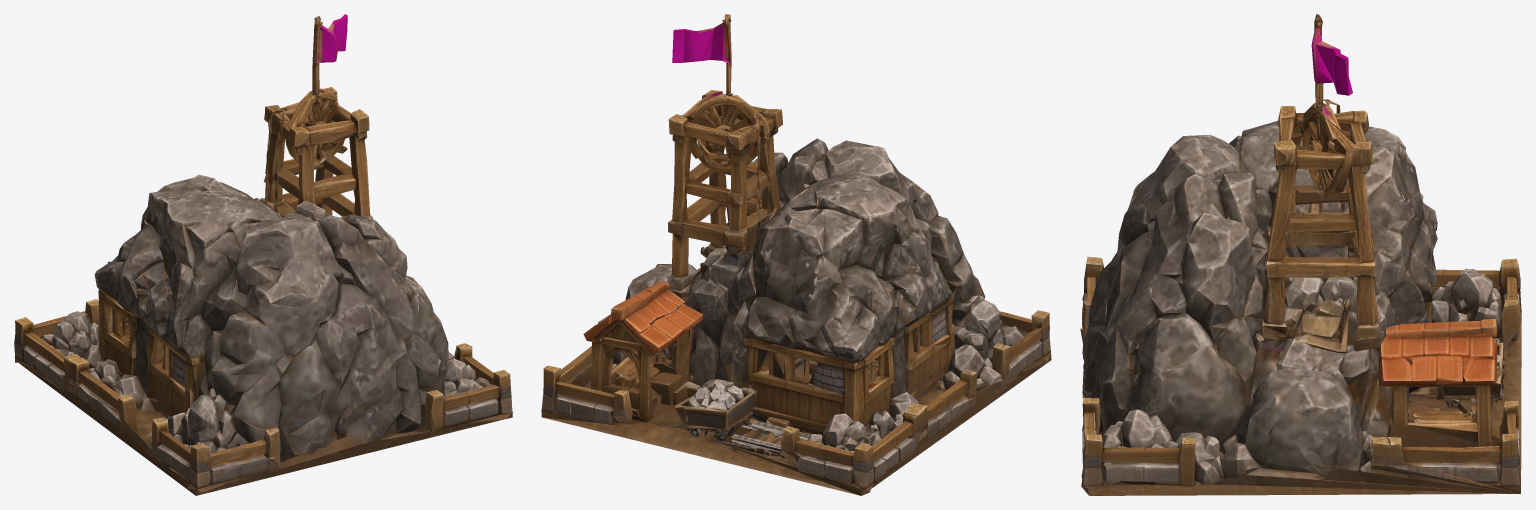
The model's file is stone_mine2.glb.
3 renders of one model, left to right at view 1: azimuth 30°, elevation 25°; view 2: azimuth 150°, elevation 25°; view 3: azimuth 270°, elevation 25°, orthographic. The views are drawn at different scales.
Visible parts, largest first — view 1: Mesh_0; view 2: Mesh_0; view 3: Mesh_0.
Part boxes in pixels (box(x1,y1,x2,y2)): Mesh_0: box(14, 14, 512, 495); Mesh_0: box(541, 14, 1051, 495); Mesh_0: box(1080, 14, 1521, 495).
Bounding box in the file's own units: 1.81 × 1.91 × 1.8.
Materials: 1 (1 with a texture image).
